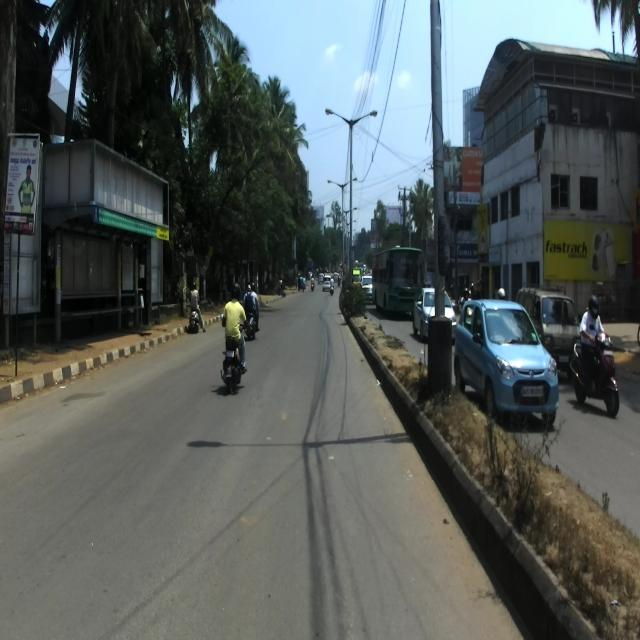bus: (372, 245, 427, 314)
car: (452, 297, 560, 430), (515, 283, 581, 374), (412, 289, 455, 345)
scooter: (568, 323, 620, 417), (186, 294, 200, 335)
